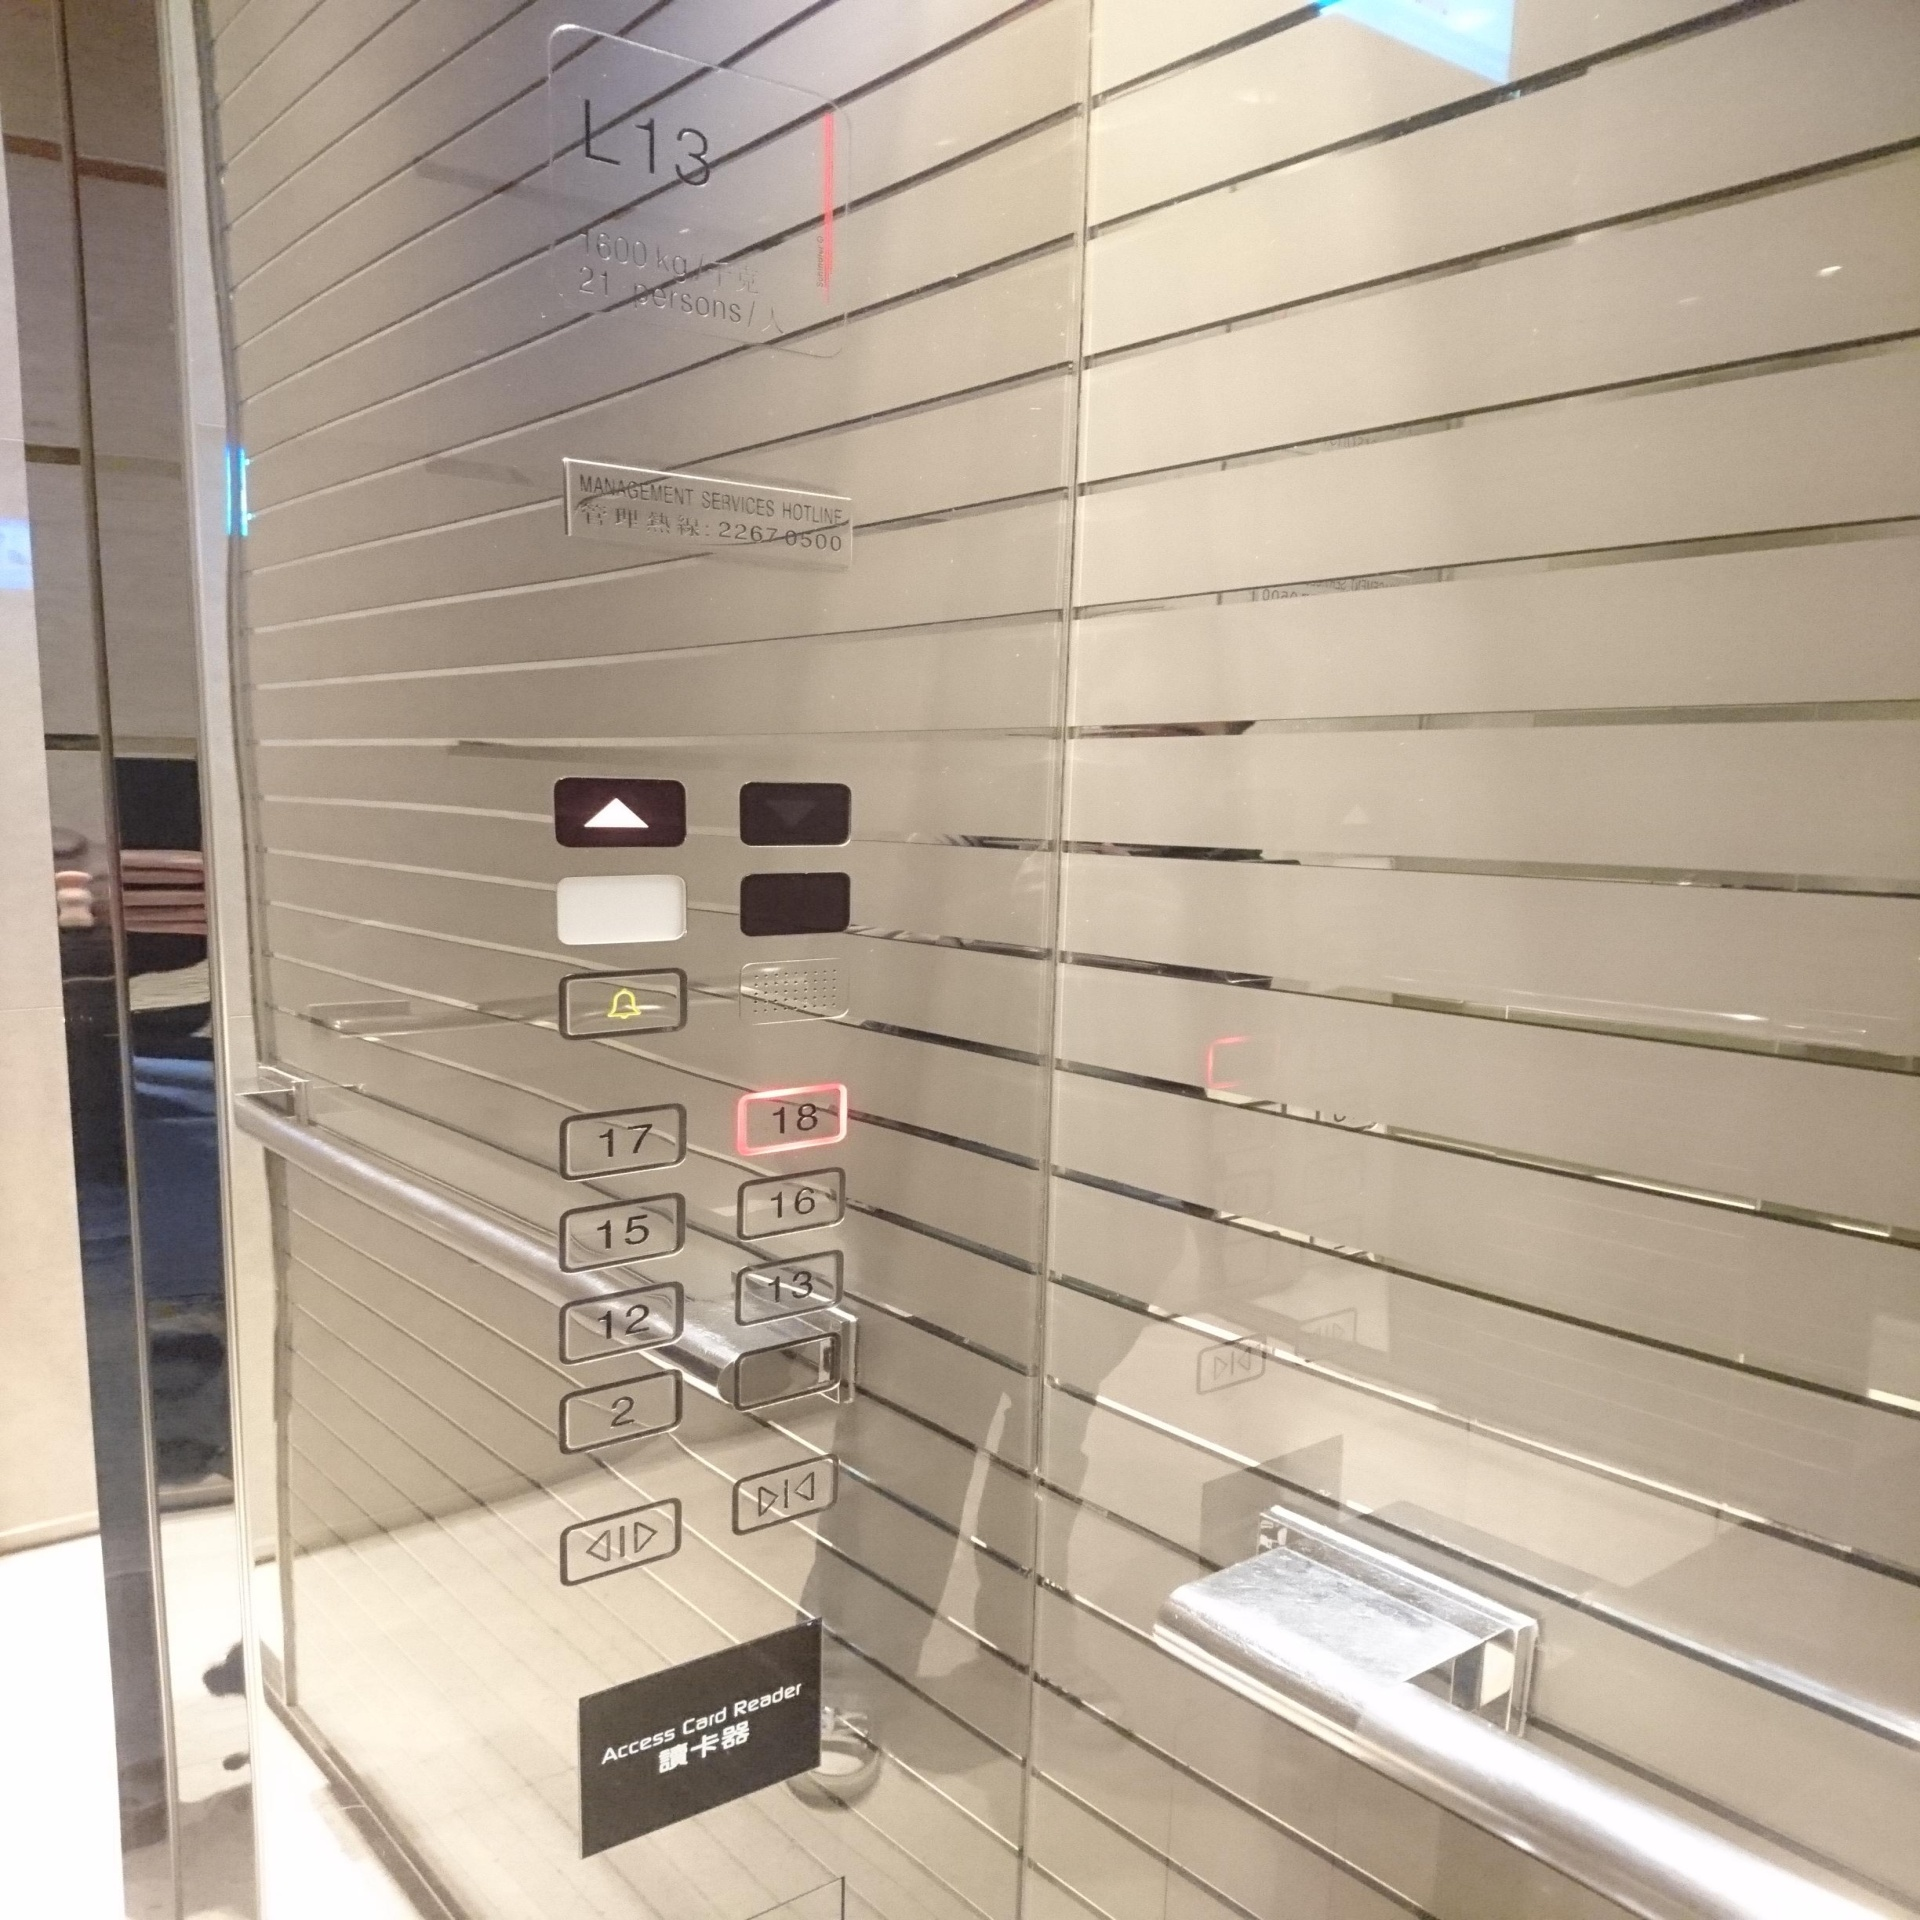12: (557, 1278, 687, 1366)
13: (731, 1247, 847, 1327)
15: (556, 1189, 689, 1275)
16: (733, 1162, 849, 1245)
17: (557, 1102, 689, 1182)
18: (733, 1080, 849, 1160)
2: (557, 1366, 686, 1459)
alarm: (556, 965, 691, 1043)
close: (730, 1449, 842, 1538), (1194, 1336, 1264, 1391)
down: (735, 777, 856, 849)
empty: (554, 872, 689, 946), (731, 1329, 844, 1417), (737, 870, 855, 937)
open: (557, 1493, 682, 1588), (1296, 1308, 1357, 1361)
speaker: (737, 953, 853, 1029)
up: (550, 774, 687, 849)
